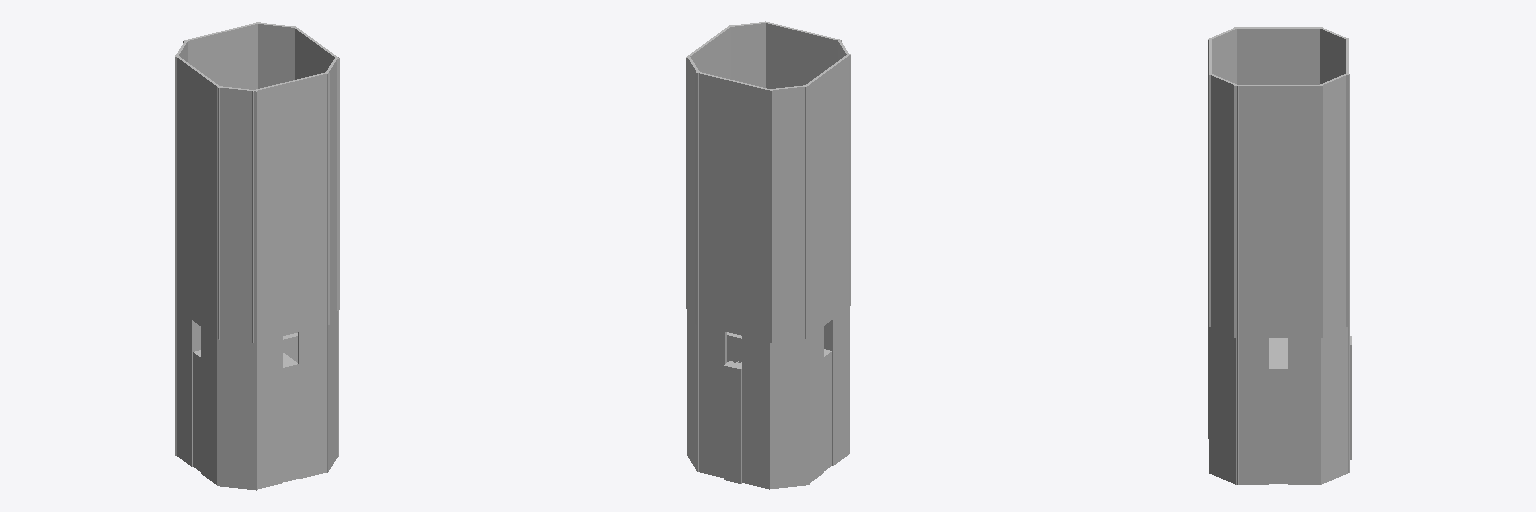
File: start_room.obj
3 views of the same model, side by side, from view 1: azimuth 30°, elevation 25°; view 2: azimuth 150°, elevation 25°; view 3: azimuth 270°, elevation 25° (orthographic).
Visible parts, largest first — view 1: cube; view 2: cube; view 3: cube.
Boxes of the visible parts, box(x1,y1,x2,y2) form: cube: box(175, 22, 339, 490); cube: box(686, 21, 850, 489); cube: box(1208, 27, 1351, 484).
Bounding box in the file's own units: 8.92 × 27.62 × 9.08.